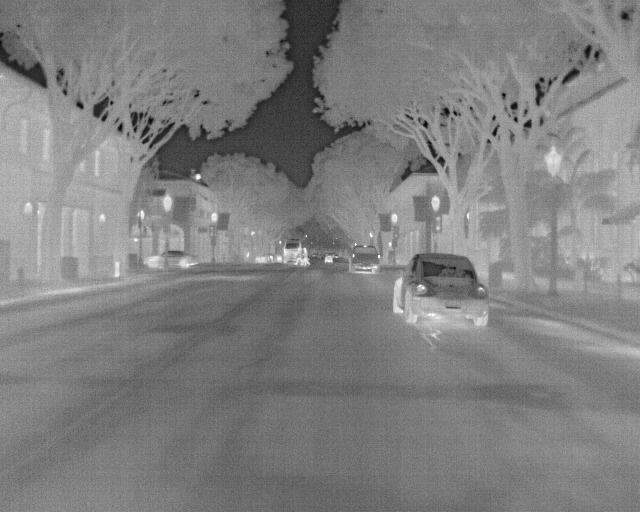car: (389, 251, 488, 327), (347, 243, 382, 274), (143, 251, 198, 270), (284, 237, 305, 264), (322, 253, 334, 265)
